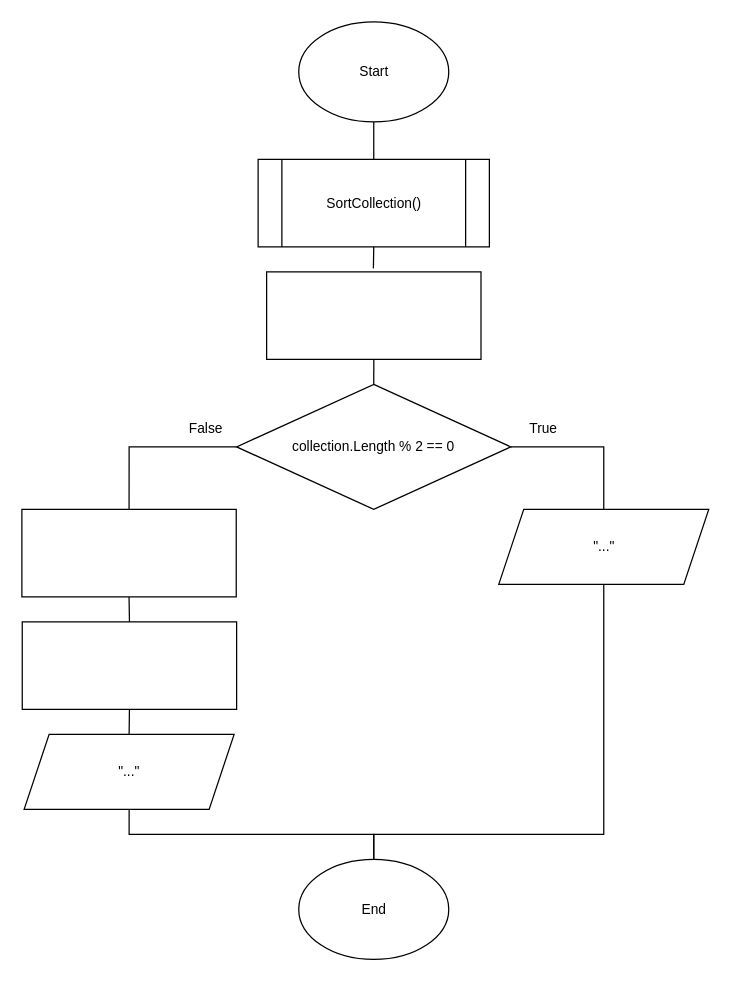
The diagram is 731 pixels wide and 981 high, and some of its shapes have lost their labels. Here are the shapes that lost their labels. From the top down, the centre of each, then its label:
At point 373,315: "middle = _collection.Length / 2".
At point 128,552: "n1 = _collection[middle].GetRating()".
At point 129,665: "n1 = _collection[middle-1].GetRating()".
